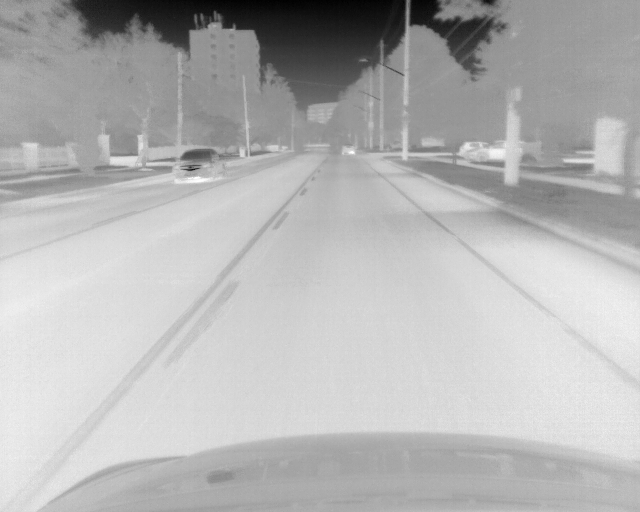car: (465, 139, 537, 169), (173, 148, 226, 183), (456, 139, 489, 159), (340, 142, 355, 156)
